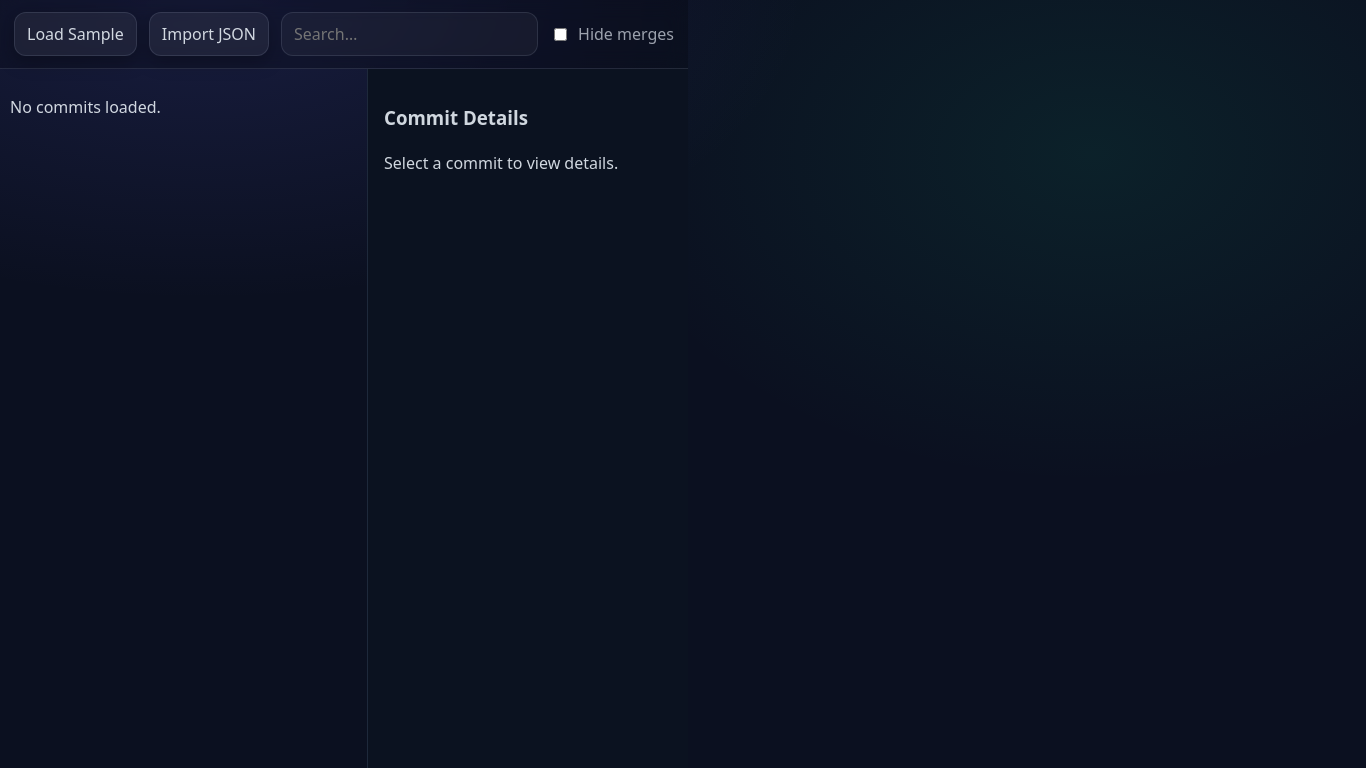
it: App skeleton › loads sample commits when clicking Load Sample
The width and height of the screenshot is (1366, 768).
Step 1. Click the button "Load Sample" → [75, 34], box [14,12,137,56]
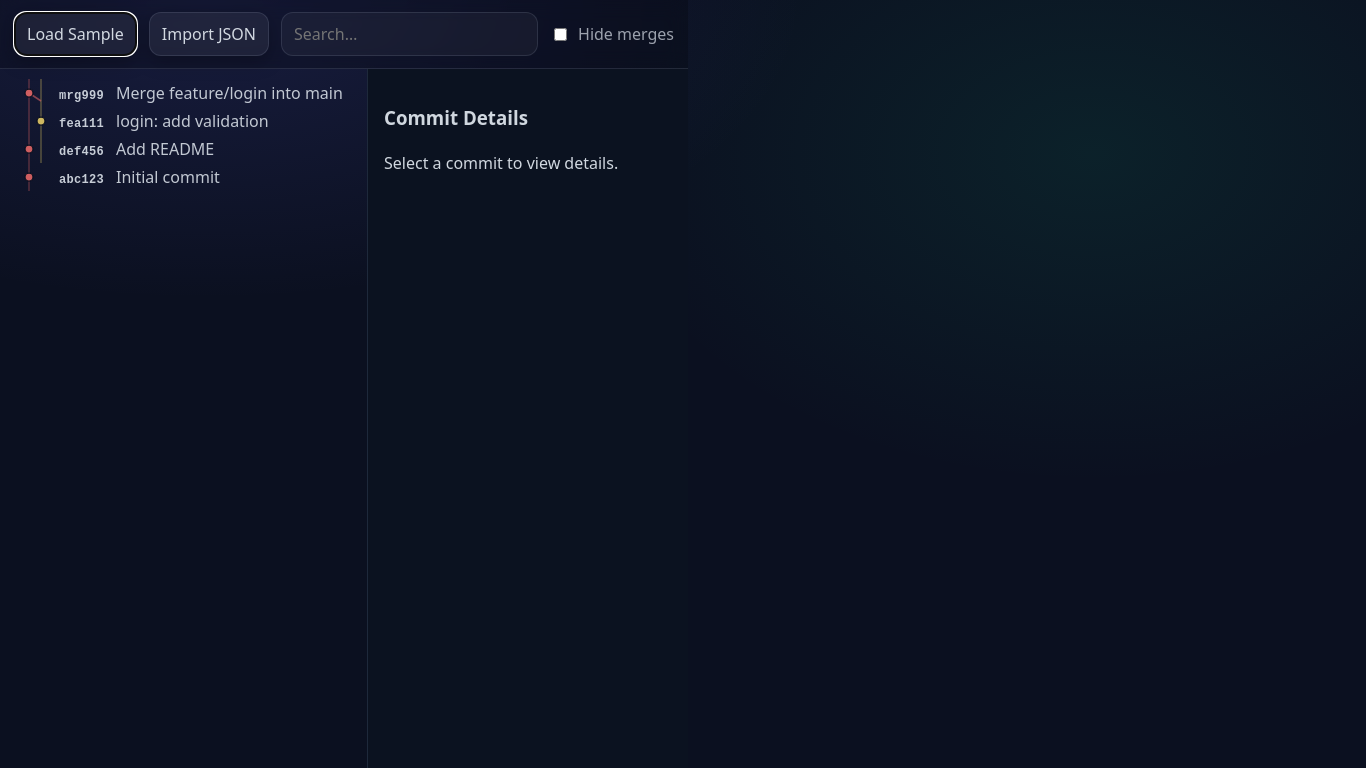
Expected: the text "abc123" is shown, [59,171,104,189]
Expected: the text "def456" is shown, [59,143,104,161]
